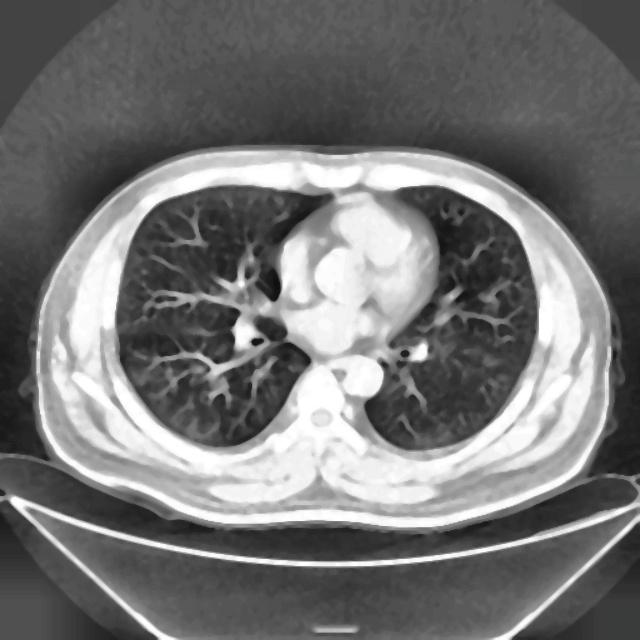covid: (25, 143, 618, 533)
